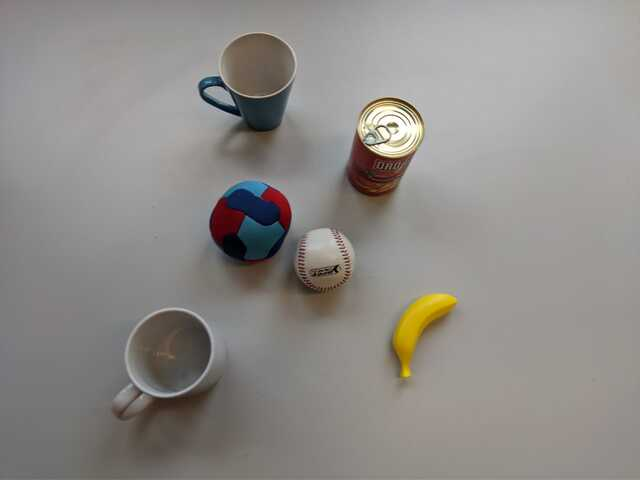005_tomato_soup_can: (346, 97, 426, 196)
011_banana: (390, 291, 457, 379)
025_mug: (109, 308, 226, 421), (196, 32, 297, 132)
055_baseball: (295, 228, 356, 294)
057_racquetball: (208, 179, 292, 264)
